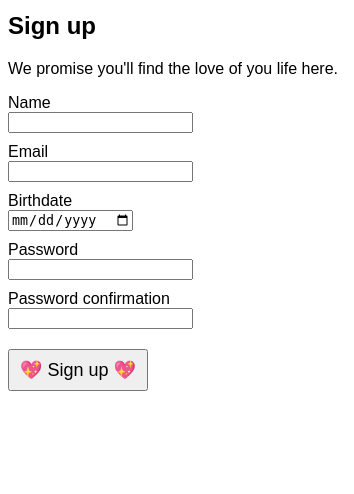
Scenario: SignupView › when the form is invalid › should show multiple errors
This screenshot has width=354, height=494.
Type "Chuck" into the field with test id "name".
click(100, 122); type("Chuck")  # box [8,112,193,133]
Type "chuck@norris.com" into the field with test id "email".
click(100, 171); type("chuck@norris.com")  # box [8,161,193,182]
Type "1981-11-12" into the date field with test id "birthday".
click(71, 220); type("1981-11-12")  # box [8,210,133,231]
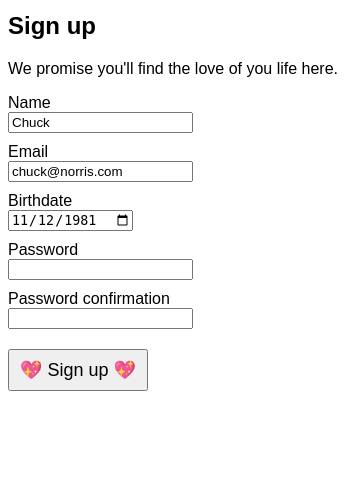
Type "12341234" into the password field with test id "password".
click(100, 270); type("12341234")  # box [8,259,193,280]
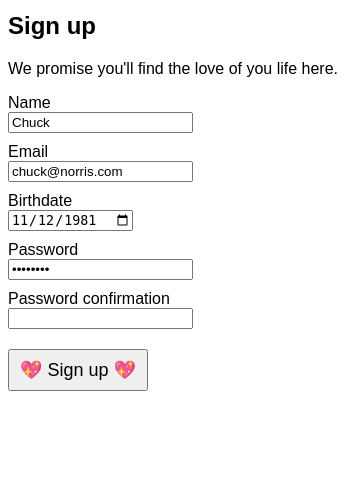
Type "12341234" into the password field with test id "passwordConfirmation".
click(100, 319); type("12341234")  # box [8,308,193,329]
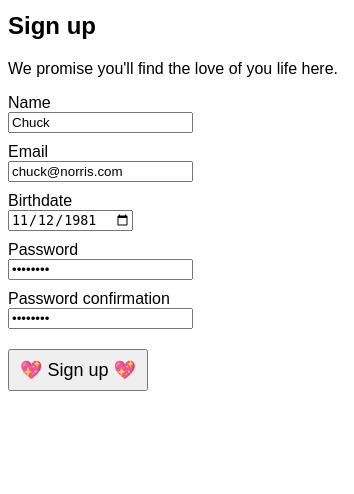
Clear the field with test id "name" at (100, 122), box [8,112,193,133]
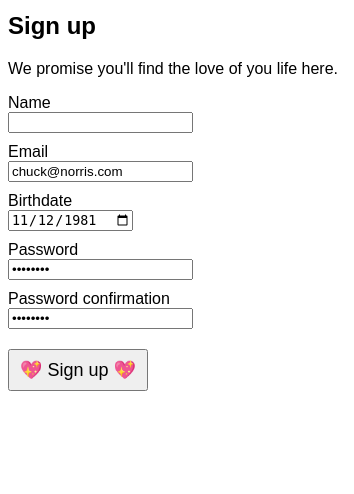
Clear the field with test id "email" at (100, 171), box [8,161,193,182]
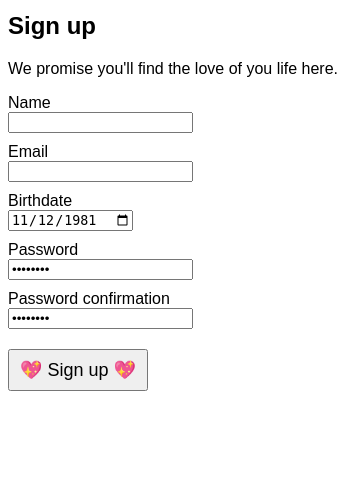
Submit the form, box [8,94,193,391]
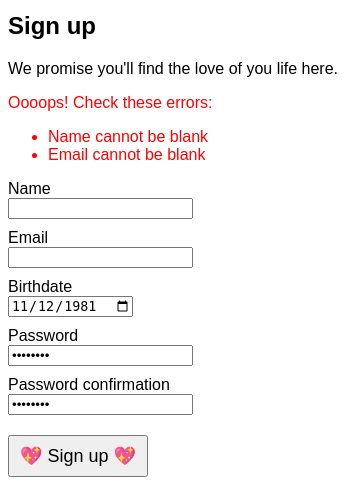
Result: the element with class "errors" reads "Oooops! Check these errors: Name cannot be blank Email cannot be blank" at [8,94,212,163]
